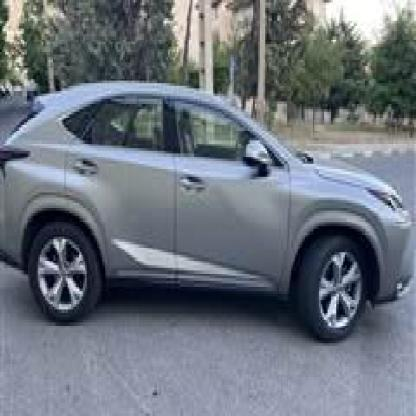Car: (0, 65, 416, 364)
